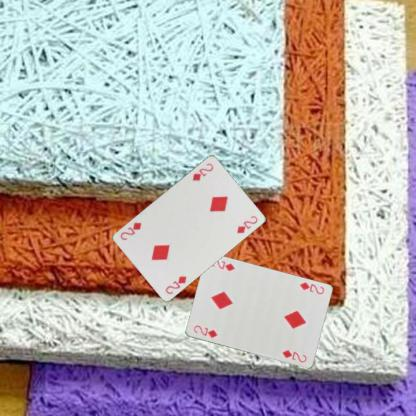2d: (163, 273, 188, 296), (190, 160, 214, 181), (297, 280, 326, 296), (191, 323, 218, 339)
